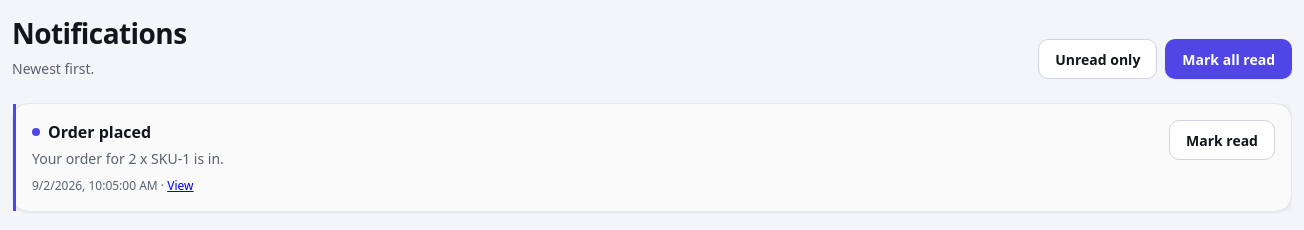
Test case: NotificationList › asks the server for unread only when the filter is toggled
Expected: the text "Order placed" is shown, x1=31 y1=121 x2=151 y2=154
What coordinates should you click on to do the following:
click the button "Unread only"
I would click on:
 (1098, 59)
Its box is x1=1038 y1=39 x2=1157 y2=79.
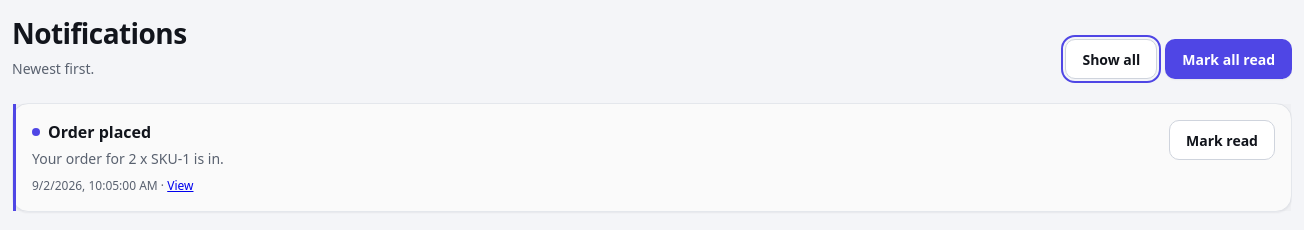
Expected: the button "Show all" is shown, x1=1065 y1=39 x2=1157 y2=79
